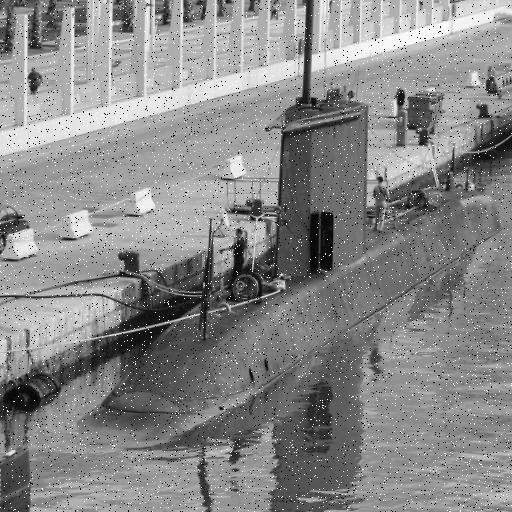submarine: (76, 98, 507, 447)
